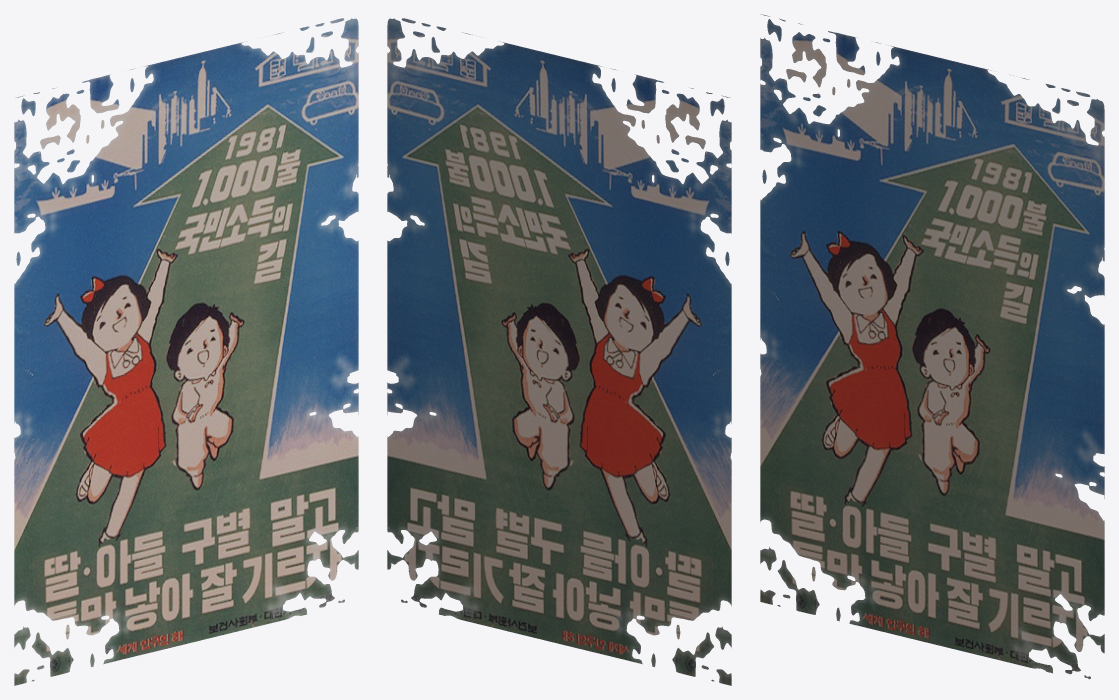
Rendered from poster.FBX.
3 renders of one model, left to right at view 1: azimuth 30°, elevation 25°; view 2: azimuth 150°, elevation 25°; view 3: azimuth 330°, elevation 25°, orthographic.
Visible parts, largest first — view 1: Plane001; view 2: Plane001; view 3: Plane001.
Part boxes in pixels (x1,y1,x2,y2): Plane001: [14, 18, 358, 685]; Plane001: [387, 18, 731, 685]; Plane001: [760, 14, 1104, 679].
Size of the model in its own units: 36.52 by 59.53 by 9.7e-06.
1 material, 1 textured.
